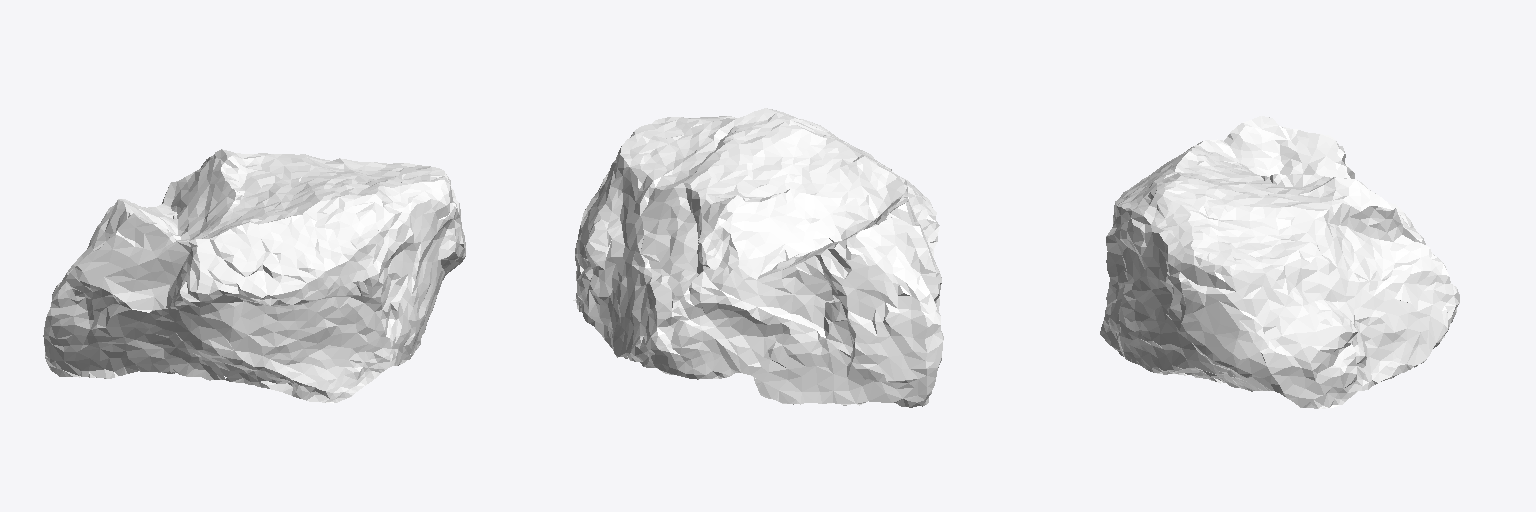
Rendered from rock.obj.
3 views of the same model, side by side, from view 1: azimuth 30°, elevation 25°; view 2: azimuth 150°, elevation 25°; view 3: azimuth 270°, elevation 25° (orthographic).
Parts seen in each view (by area): view 1: rock_Decimate_rock_1mil.004; view 2: rock_Decimate_rock_1mil.004; view 3: rock_Decimate_rock_1mil.004.
Boxes of the visible parts, x1=… form: rock_Decimate_rock_1mil.004: x1=43, y1=149, x2=465, y2=403; rock_Decimate_rock_1mil.004: x1=573, y1=108, x2=943, y2=407; rock_Decimate_rock_1mil.004: x1=1100, y1=116, x2=1459, y2=408.
Size of the model in its own units: 10.15 by 4.54 by 8.22.